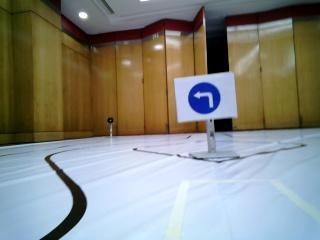left: (183, 82, 231, 114)
